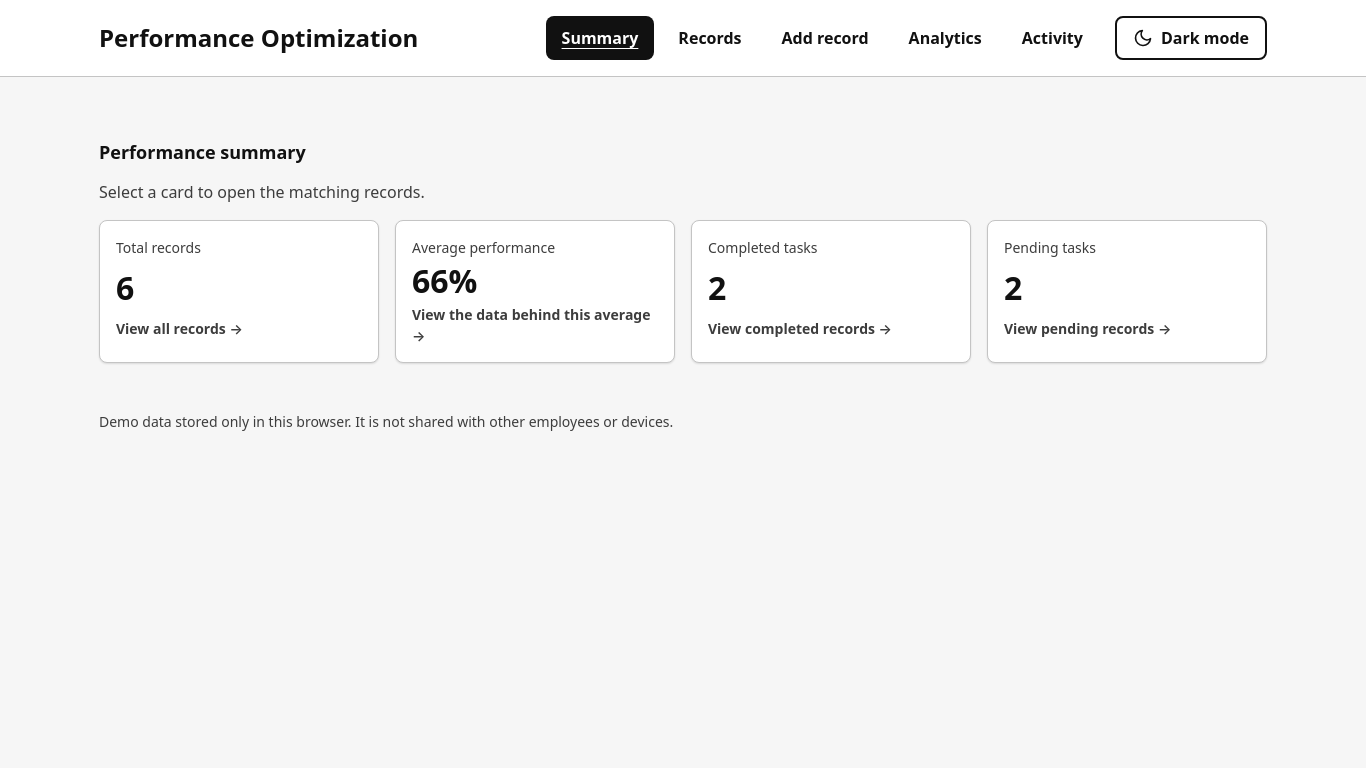
Test: analytics view › is reachable from the navigation, with a single h2 and h3 sections
Click the link "Analytics".
click(945, 38)  # box 909,27 -> 982,49
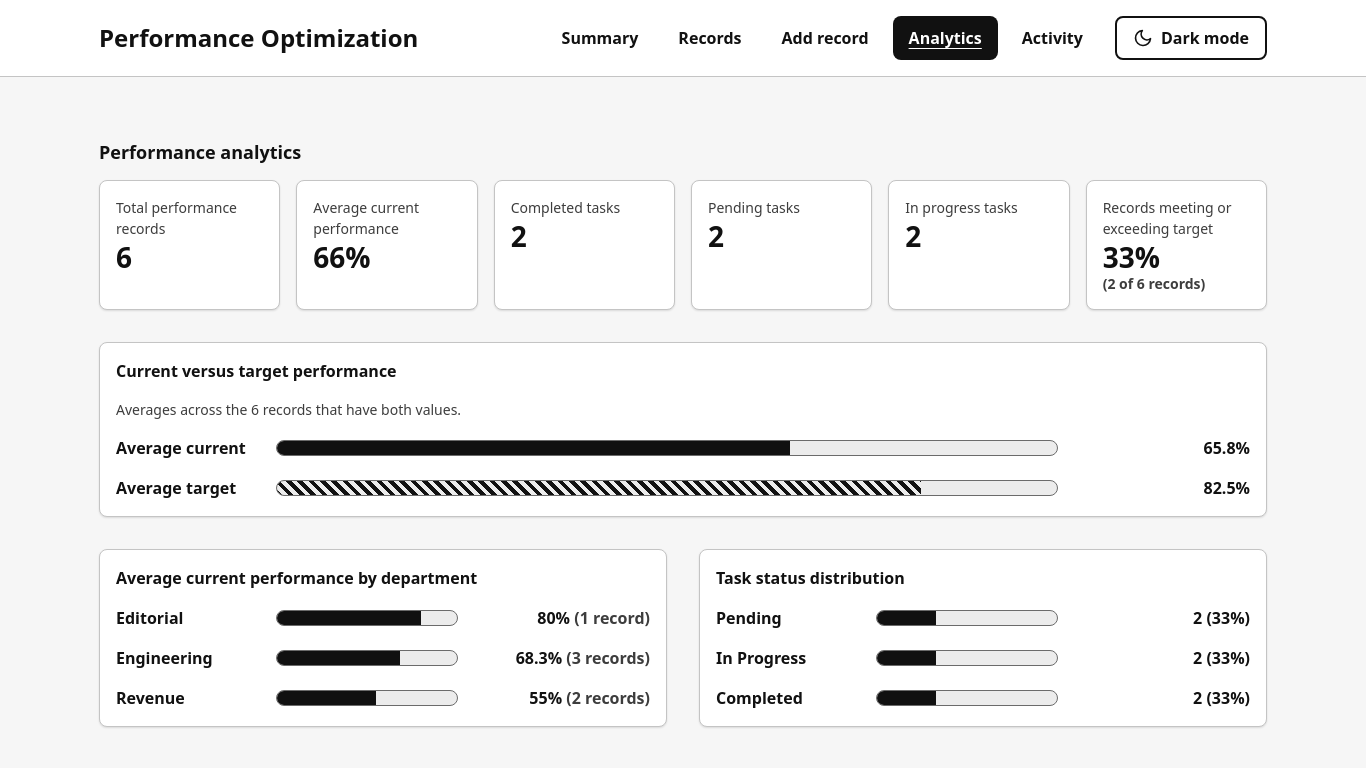
expect the headings read "Current versus target performance", "Average current performance by department", "Task status distribution", in this order: met, box 116,360 -> 397,382; 116,567 -> 477,589; 716,567 -> 905,589
